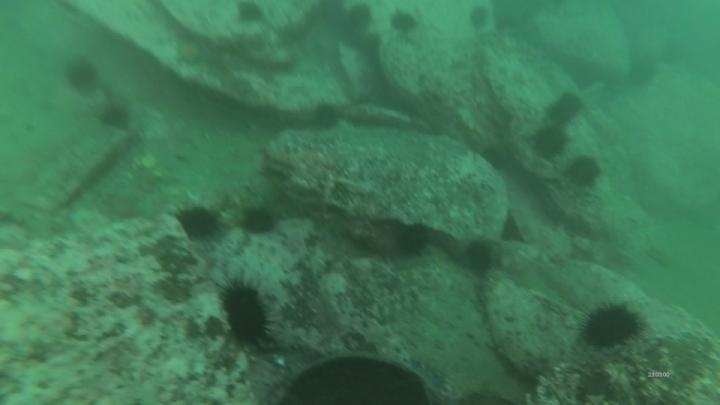echinus: (217, 280, 273, 348), (579, 300, 645, 350), (174, 204, 223, 242), (63, 56, 101, 96), (392, 223, 432, 259), (530, 124, 569, 160), (565, 154, 603, 189), (462, 238, 497, 276), (239, 205, 279, 237), (341, 3, 376, 37), (626, 56, 659, 90), (97, 102, 133, 133), (309, 101, 343, 133), (388, 8, 420, 37), (233, 1, 266, 27), (466, 4, 492, 33), (545, 105, 571, 126), (561, 88, 582, 114)
starfish: (171, 36, 210, 69)
